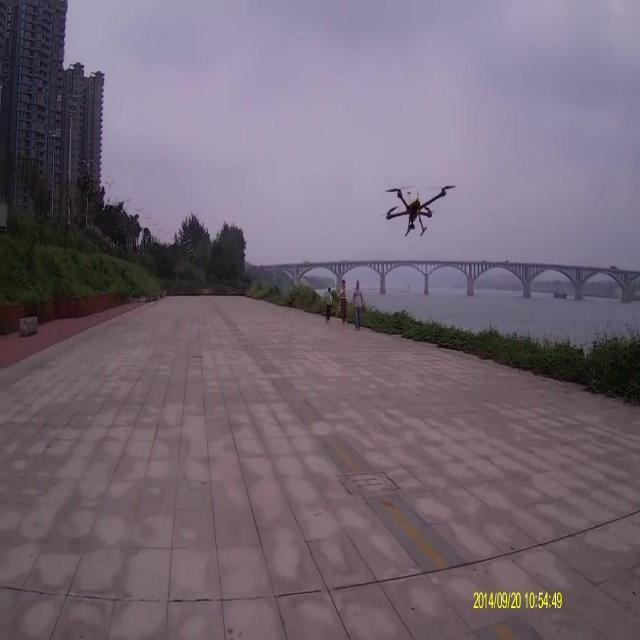UAV: (384, 183, 451, 237)
